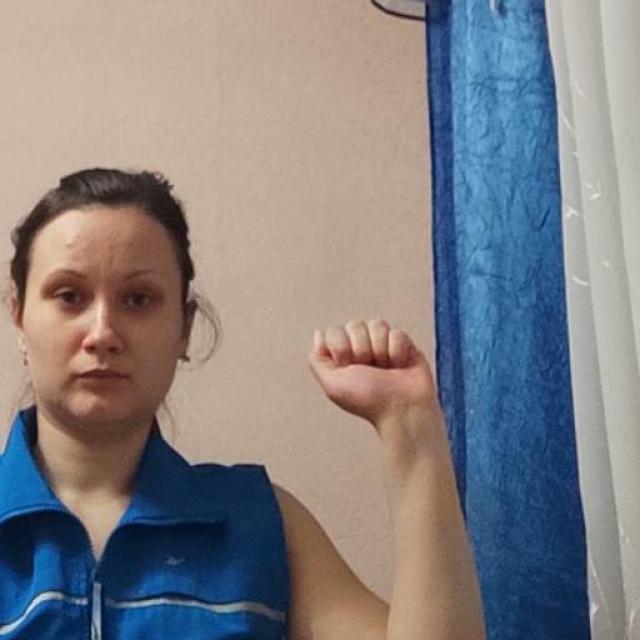hand: (308, 316, 448, 442)
